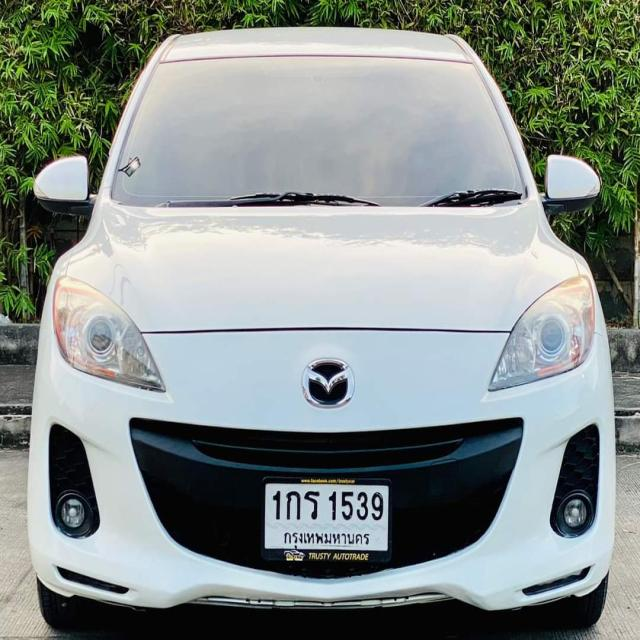license_plate: (263, 475, 392, 563)
